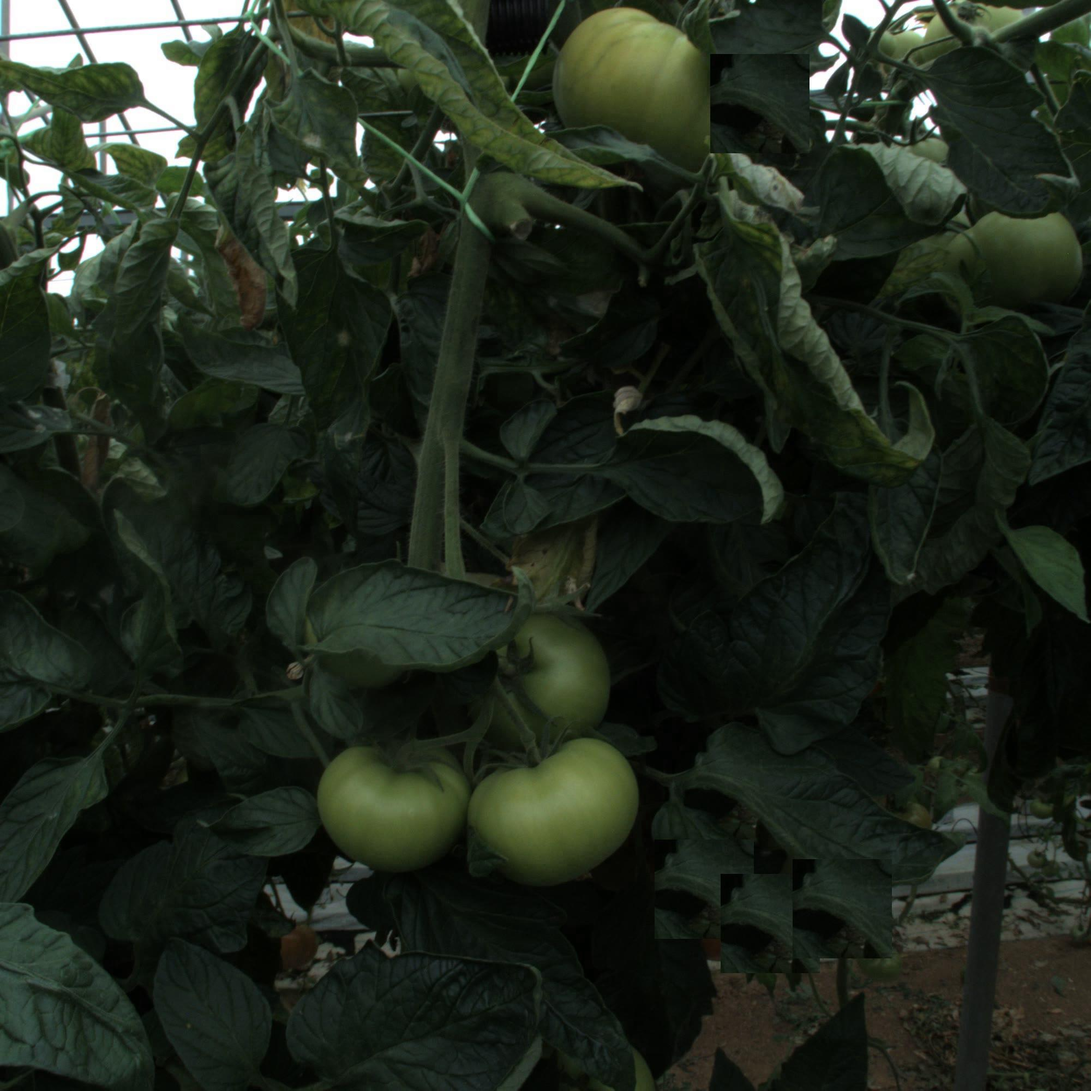unripe: (477, 727, 636, 886), (552, 6, 703, 158), (316, 727, 466, 877), (476, 616, 608, 748), (960, 197, 1086, 323)
